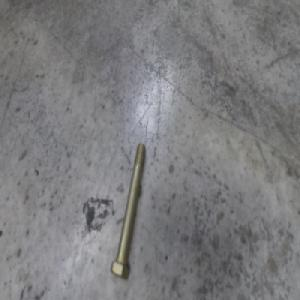Bolt: (111, 139, 147, 278)
